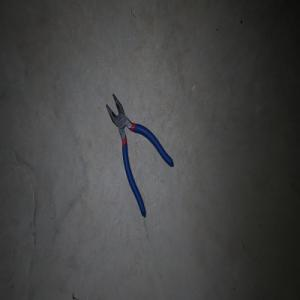Pliers: (105, 92, 174, 217)
